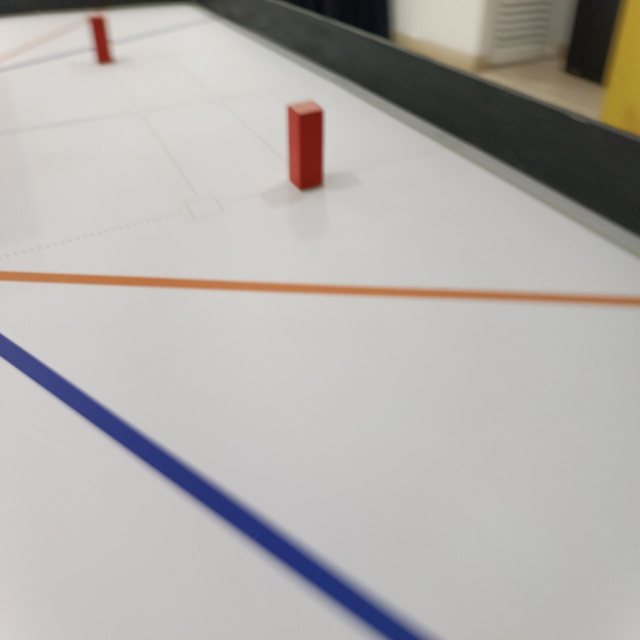blue line: (0, 323, 446, 636), (0, 16, 211, 74)
orange line: (0, 274, 637, 310), (3, 10, 93, 60)
red rectangular prism: (282, 100, 330, 193), (87, 13, 119, 69)
